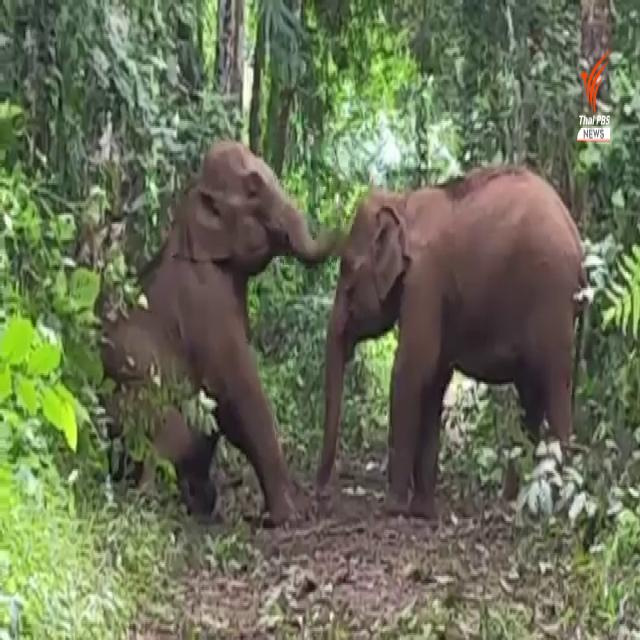Elephant: (324, 155, 590, 513), (92, 136, 321, 521)
